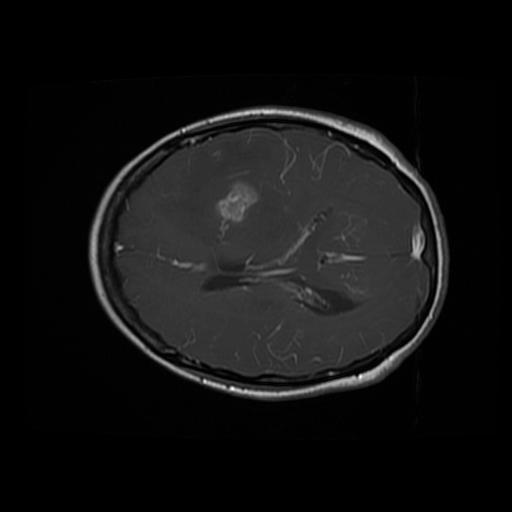glioma: (213, 179, 258, 224)
